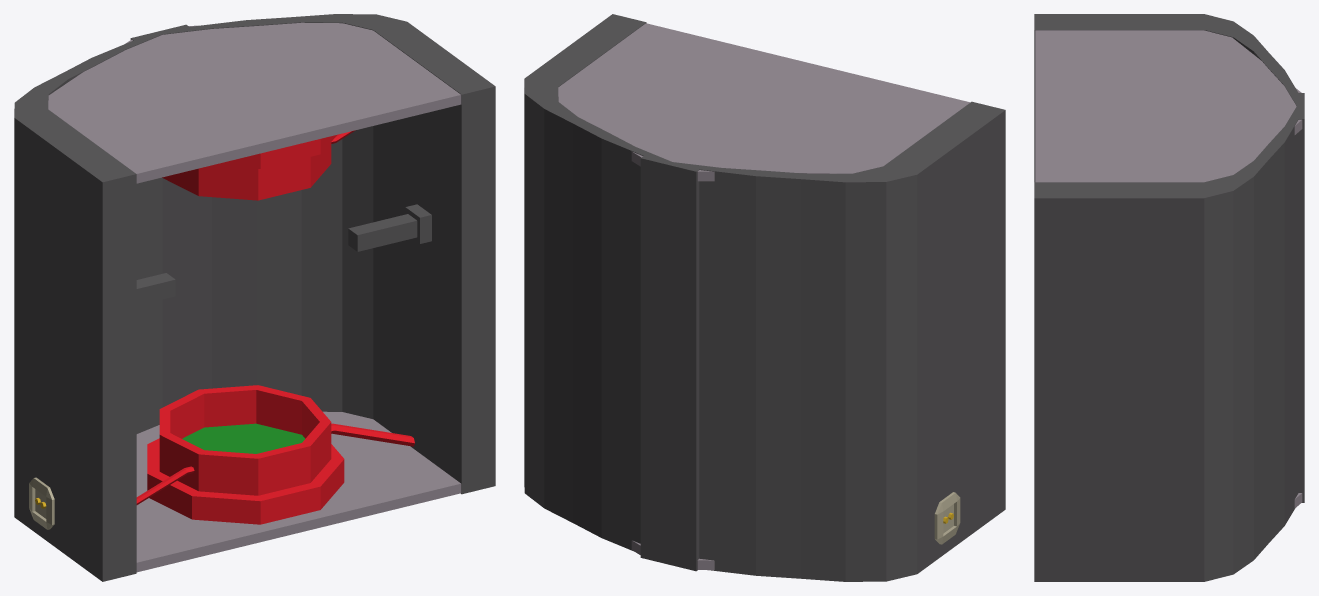
File: robot_station.fbx
3 renders of one model, left to right at view 1: azimuth 30°, elevation 25°; view 2: azimuth 150°, elevation 25°; view 3: azimuth 270°, elevation 25°, orthographic. The views are drawn at different scales.
Visible parts, largest first — view 1: robot_station_1_main, robot_station_1_part; view 2: robot_station_1_main, robot_station_1_part; view 3: robot_station_1_main, robot_station_1_part.
Boxes of the visible parts, x1,y1,x2,y2 form: robot_station_1_main: (14, 14, 495, 581); robot_station_1_part: (48, 22, 461, 572); robot_station_1_main: (524, 14, 1005, 581); robot_station_1_part: (558, 23, 970, 570); robot_station_1_main: (1034, 14, 1304, 581); robot_station_1_part: (1035, 30, 1302, 508).
Size of the model in its own units: 176 by 169 by 108.
